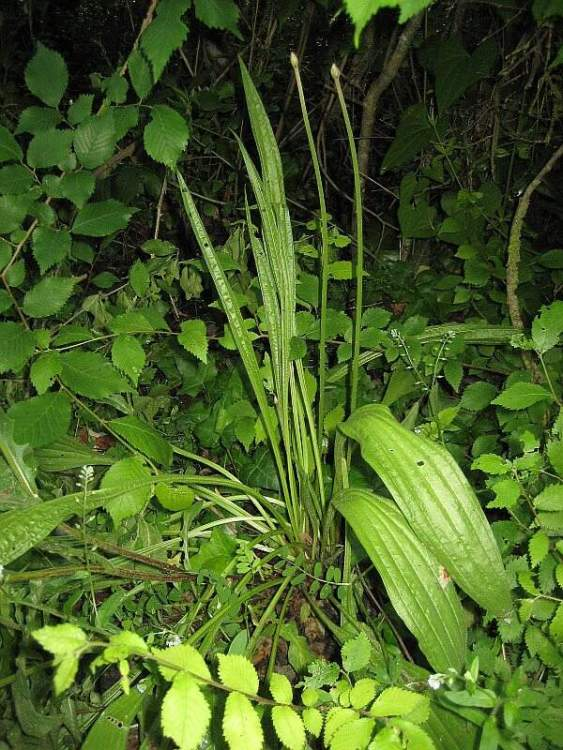buckhorn plantain: (164, 51, 411, 608)
